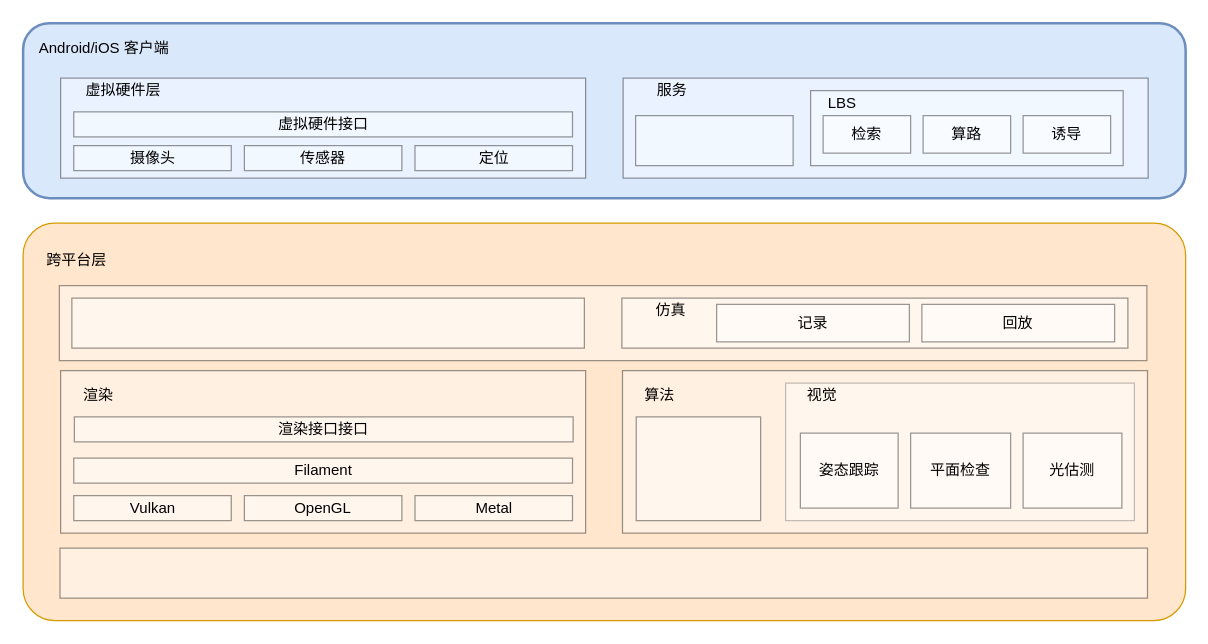
Some shapes in this 1208 by 644 pixel diagram are drawn without their labels. The box of each missing label's shape, as (x1, y1, x2, y2) in pixels:
AR 业务: (71, 297, 584, 348)
Boost: (59, 547, 1148, 598)
云控: (634, 114, 793, 166)
传感器融合: (635, 416, 761, 521)
